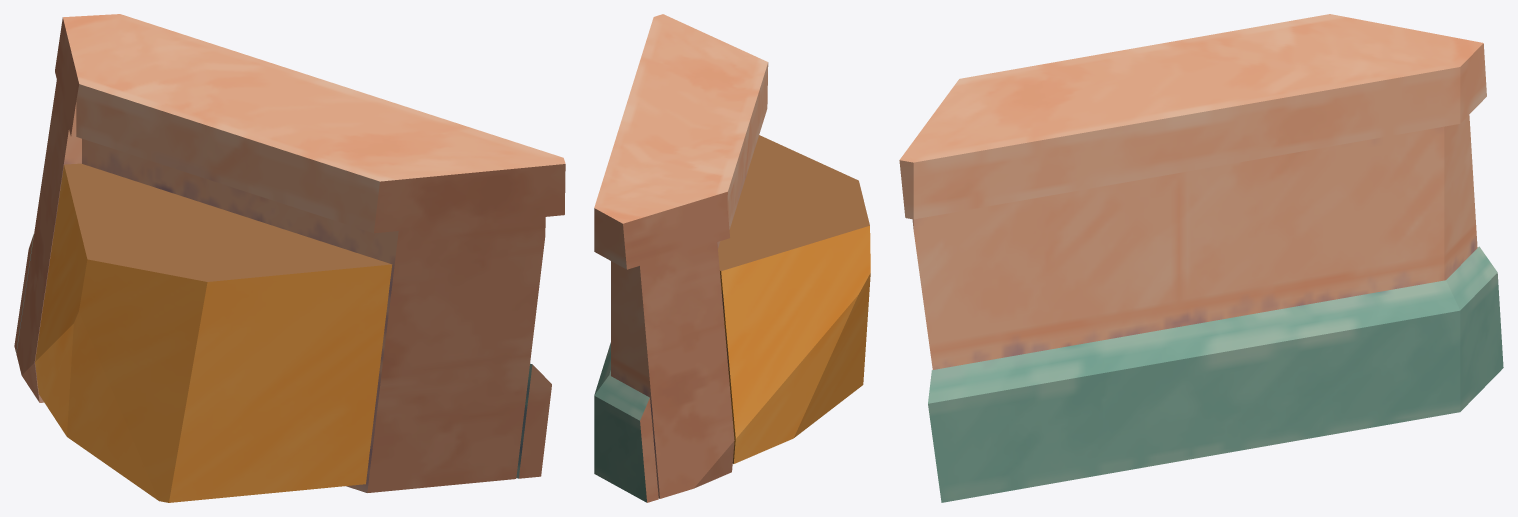
File: vat_saffron_s04.fbx
3 renders of one model, left to right at view 1: azimuth 30°, elevation 25°; view 2: azimuth 150°, elevation 25°; view 3: azimuth 270°, elevation 25°, orthographic. The views are drawn at different scales.
Parts seen in each view (by area): view 1: vat_saffron_s04; view 2: vat_saffron_s04; view 3: vat_saffron_s04.
Part boxes in pixels (box(x1,y1,x2,y2)): vat_saffron_s04: box(14, 14, 565, 502); vat_saffron_s04: box(594, 14, 870, 502); vat_saffron_s04: box(899, 14, 1503, 502).
Bounding box in the file's own units: 2.05 × 1.7 × 2.7.
